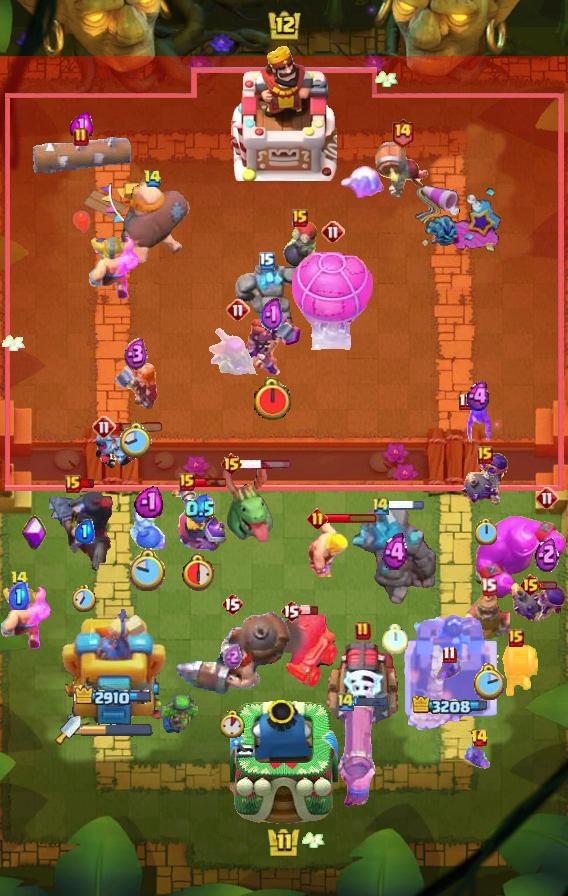archer-evolution: (207, 326, 269, 382)
bar: (325, 512, 378, 524), (240, 459, 292, 470), (113, 422, 165, 433), (389, 499, 426, 512), (192, 476, 228, 488), (354, 695, 389, 707), (300, 605, 319, 616), (539, 580, 558, 591), (79, 478, 96, 489)
bar-level: (390, 117, 415, 148), (535, 486, 559, 510), (92, 415, 116, 439), (226, 298, 250, 322), (321, 220, 345, 244), (519, 573, 542, 597), (220, 452, 243, 476), (280, 599, 302, 623), (221, 592, 243, 616), (307, 508, 328, 529), (336, 691, 356, 712), (371, 495, 391, 516), (470, 728, 489, 748), (10, 570, 29, 589), (143, 169, 162, 188), (480, 577, 497, 596), (355, 621, 371, 641), (73, 127, 89, 147), (508, 629, 524, 647), (65, 475, 81, 493), (179, 473, 195, 491), (477, 446, 493, 464), (259, 252, 275, 270), (292, 209, 308, 227), (442, 645, 457, 664), (458, 392, 473, 411)
barbarian: (307, 522, 351, 577)
bat-evolution: (464, 403, 494, 447), (464, 738, 494, 770), (434, 656, 464, 684)
bomber: (128, 503, 168, 551), (280, 221, 320, 269)
bomber-evolution: (460, 452, 510, 506), (510, 581, 568, 625)
clock: (252, 377, 293, 422), (130, 548, 167, 591), (182, 552, 218, 591), (120, 421, 153, 460), (472, 663, 504, 700), (382, 624, 408, 654), (220, 710, 245, 738), (72, 585, 96, 612), (474, 518, 497, 545)
dagger-duchess-tower: (62, 601, 166, 731)
dagger-duchess-tower-bar: (81, 723, 153, 737)
elite-barbarian: (0, 584, 51, 650), (88, 234, 139, 300)
elixir: (381, 533, 410, 572), (134, 484, 163, 518), (464, 381, 494, 412), (185, 494, 215, 524), (535, 535, 559, 572), (260, 297, 284, 334), (124, 338, 148, 371), (70, 112, 93, 140), (9, 582, 30, 610), (74, 519, 95, 544), (223, 644, 242, 669)
evolution-symbol: (21, 515, 47, 551)
golemite: (231, 263, 303, 333)
ice-spirit-evolution: (339, 166, 389, 204)
king-tower: (231, 43, 337, 181), (230, 698, 338, 826)
knight-evolution: (171, 485, 230, 552)
minion: (96, 424, 140, 470)
queen-tower: (402, 613, 505, 731)
royal-recruit: (466, 587, 510, 651)
spear-goblin: (156, 695, 198, 735)
the-log: (30, 137, 132, 173)
tower-bar: (74, 685, 154, 709), (412, 696, 494, 718)
valkyrie: (114, 362, 158, 412)
valkyrie-evolution: (241, 314, 303, 378)
wall-breaker: (374, 141, 430, 201), (491, 642, 541, 698)
